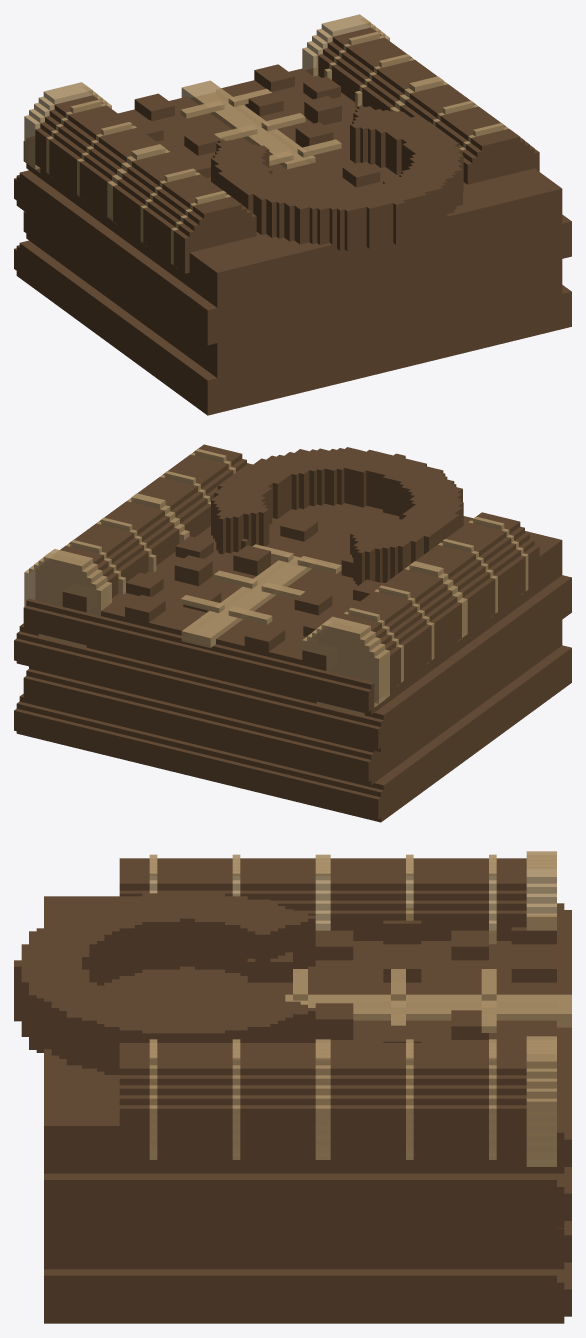
Rendered from armor_farmor.glb.
The picture shows the model from 3 angles, top to bottom: view 1: azimuth 30°, elevation 25°; view 2: azimuth 150°, elevation 25°; view 3: azimuth 270°, elevation 25°; orthographic projection. The views are drawn at different scales.
Parts seen in each view (by area): view 1: armor_farmor:compound; view 2: armor_farmor:compound; view 3: armor_farmor:compound.
Boxes of the visible parts, x1,y1,x2,y2 form: armor_farmor:compound: (14,14,571,415); armor_farmor:compound: (14,444,571,822); armor_farmor:compound: (14,851,571,1323).
Size of the model in its own units: 0.304 by 0.144 by 0.296.
